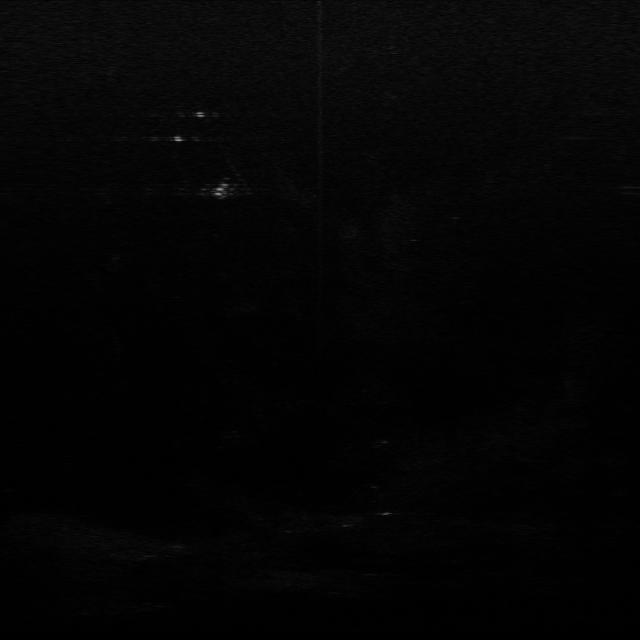rov: (208, 179, 232, 201)
